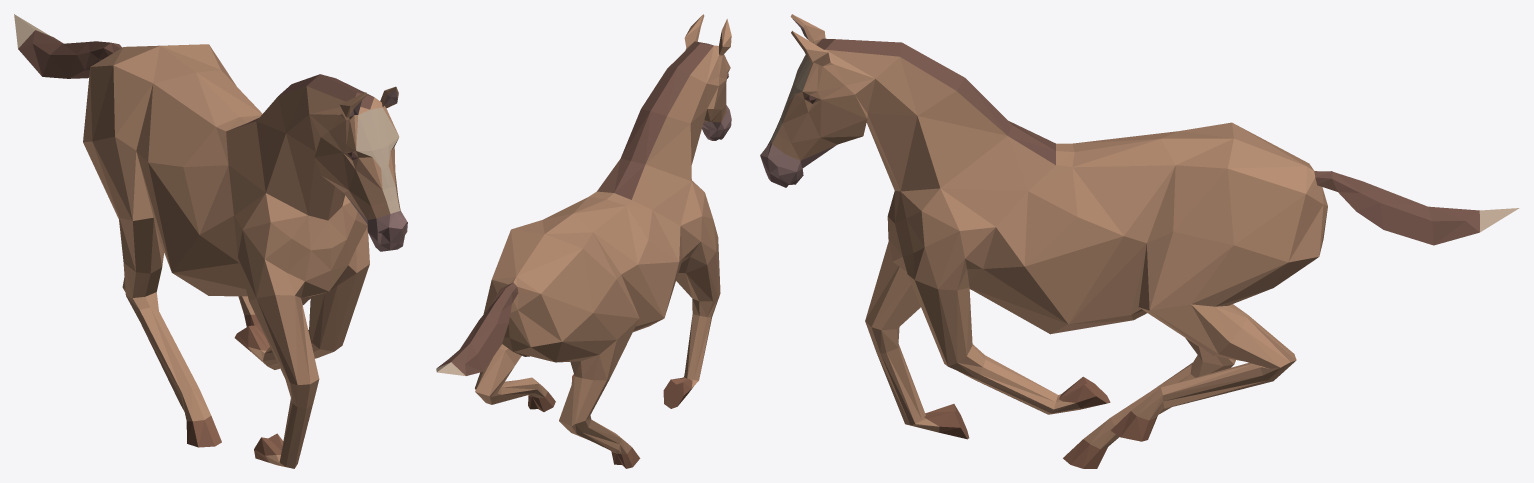
File: Horse.glb
The picture shows the model from 3 angles, left to right: view 1: azimuth 30°, elevation 25°; view 2: azimuth 150°, elevation 25°; view 3: azimuth 270°, elevation 25°; orthographic projection. The views are drawn at different scales.
Visible parts, largest first — view 1: mesh_0; view 2: mesh_0; view 3: mesh_0.
Part boxes in pixels (x1=…): mesh_0: x1=14, y1=14, x2=407, y2=468; mesh_0: x1=436, y1=14, x2=731, y2=468; mesh_0: x1=760, y1=14, x2=1519, y2=468.
Size of the model in its own units: 65.87 by 185 by 277.
